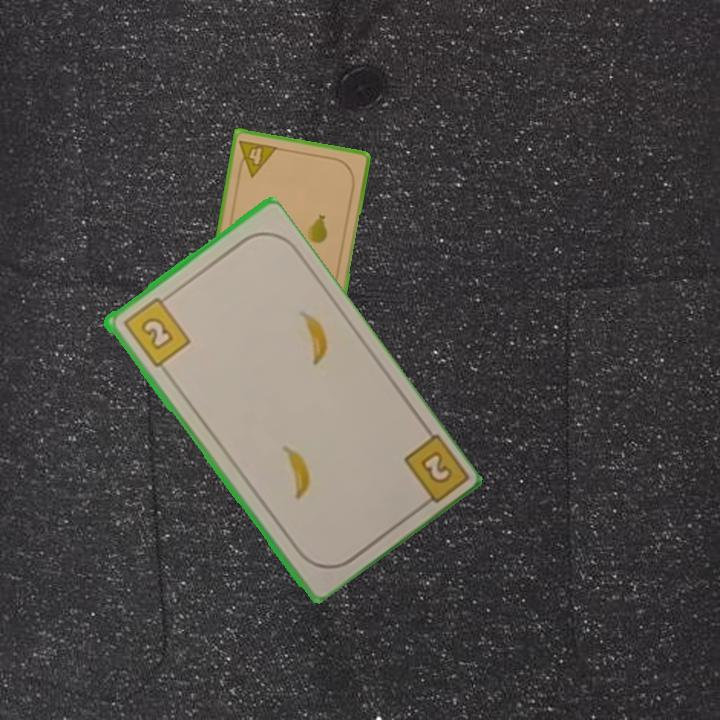2b: (399, 429, 468, 514), (119, 291, 193, 370)
4p: (234, 136, 280, 180)
